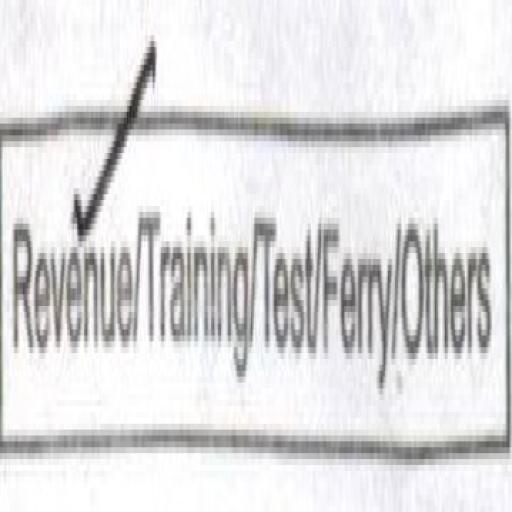check: (7, 41, 139, 469)
